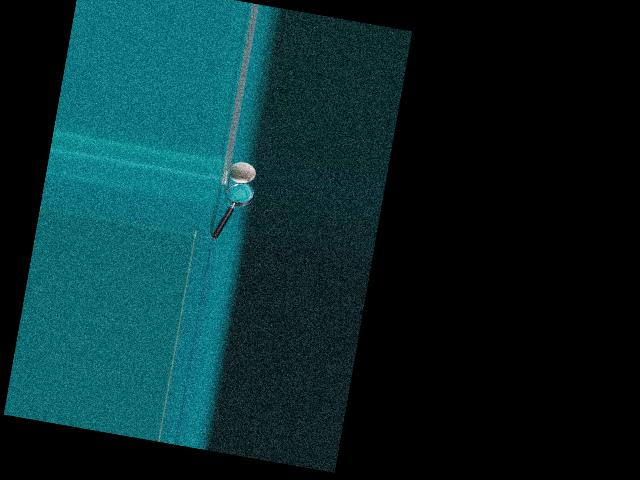egg: (227, 159, 257, 185)
